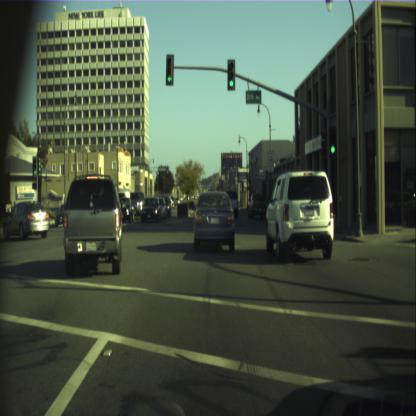Green: (227, 58, 235, 90), (328, 125, 336, 154)
GreenLeft: (166, 54, 174, 85), (32, 156, 38, 177)
